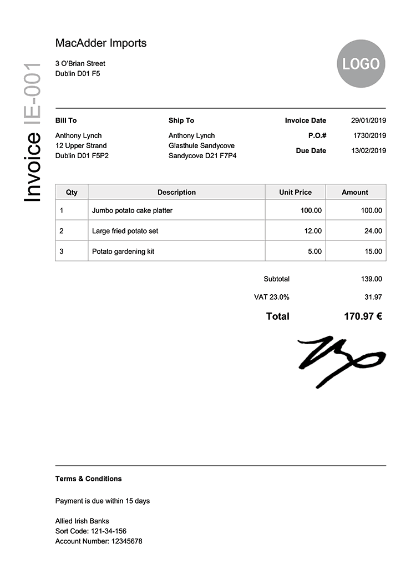Table: (44, 166, 392, 268)
